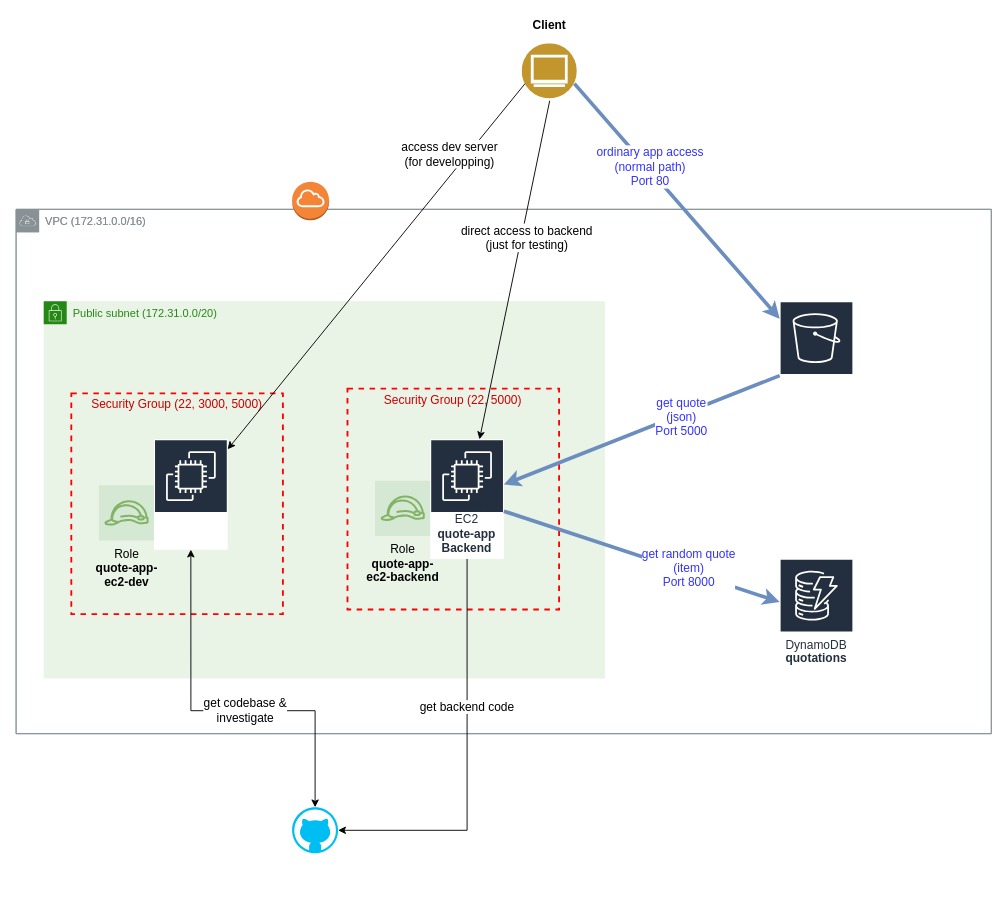
This 1007x918 diagram has some shape labels left out. The box of each missing label's shape, as (x1, y1, x2, y2) in pixels:
Amazon S3 quote-app Frontend: (779, 300, 853, 421)
EC2 dev-server: (153, 438, 228, 550)
Github quote-app Codebase: (292, 807, 338, 853)
Internet Gateway: (291, 181, 329, 220)
